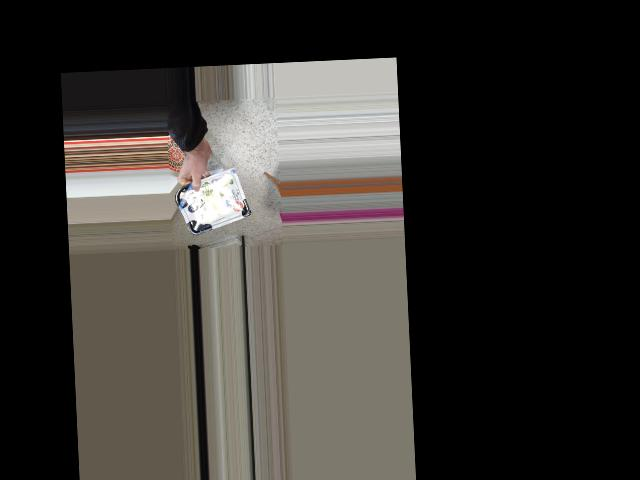cheese: (178, 179, 243, 228)
